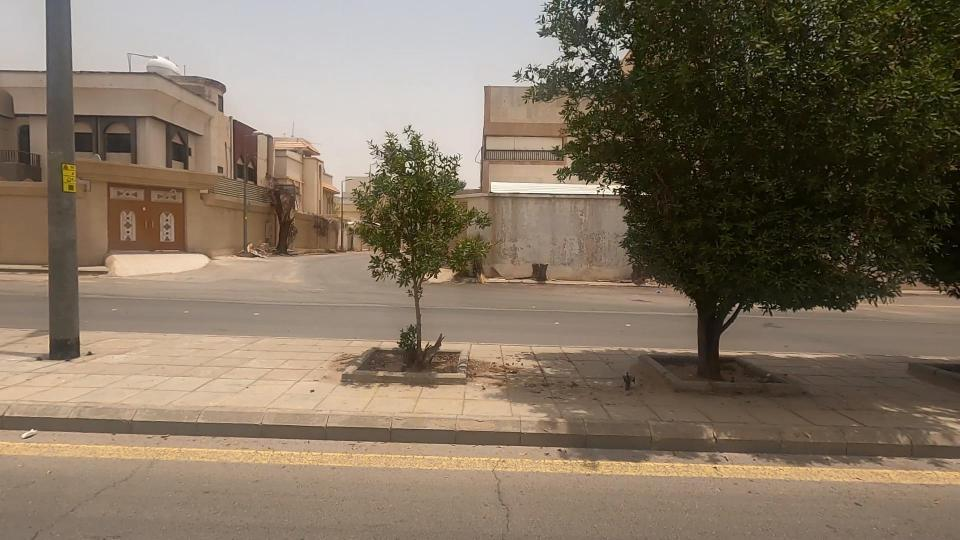GARBAGE: (0, 397, 74, 461), (214, 226, 290, 277)
